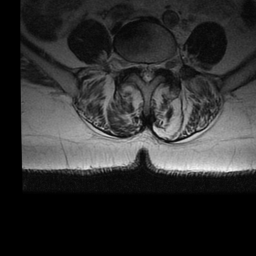CCS_normal: (143, 54, 151, 88)
LFS_stenosis: (157, 53, 165, 75)
LLS_normal: (150, 54, 157, 82)
RFS_stenosis: (129, 53, 137, 73)
RLS_stenosis: (137, 54, 142, 80)
